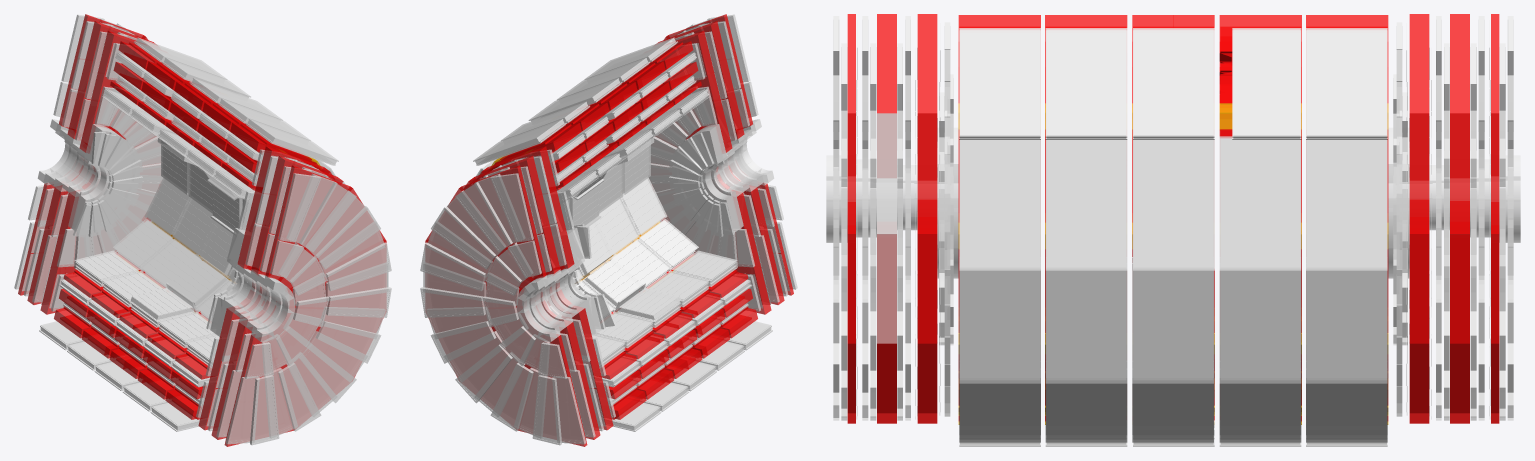
Rendered from muon-3.glb.
3 renders of one model, left to right at view 1: azimuth 30°, elevation 25°; view 2: azimuth 150°, elevation 25°; view 3: azimuth 270°, elevation 25°, orthographic. The views are drawn at different scales.
Parts seen in each view (by area): view 1: Mesh763 muonYoke_YE3_b_materials_AISI_1018_Steel2 lp_muonYok, Mesh764 muonYoke_YE3_b_materials_AISI_1018_Steel3 lp_muonYok, Mesh762 muonYoke_YE3_b_materials_AISI_1018_Steel1 lp_muonYok, Mesh761 muonYoke_YE3_b_materials_AISI_1018_Steel lp_muonYoke, Mesh765 muonYoke_YE3_b_materials_AISI_1018_Steel4 lp_muonYok, Mesh766 muonYoke_YE3_b_materials_AISI_1018_Steel5 lp_muonYok, Mesh498 muonYoke_YE2_b_materials_AISI_1018_Steel3 lp_muonYok, Mesh2351 muonYoke_YE2_b_materials_AISI_1018_Steel6 lp_muonYo, Mesh497 muonYoke_YE2_b_materials_AISI_1018_Steel2 lp_muonYok, Mesh2355 muonYoke_YE2_b_materials_AISI_1018_Steel7 lp_muonYo, Mesh2326 muonYoke_YE1_b_materials_AISI_1018_Steel11 lp_muonY, Mesh519 mf_ME42AlumFrame_materials_M_Aluminium lp_mf_ME42Alu (+120 smaller); view 2: Mesh2315 muonYoke_YE3_b_materials_AISI_1018_Steel6 lp_muonYo, Mesh2320 muonYoke_YE3_b_materials_AISI_1018_Steel11 lp_muonY, Mesh2316 muonYoke_YE3_b_materials_AISI_1018_Steel7 lp_muonYo, Mesh2317 muonYoke_YE3_b_materials_AISI_1018_Steel8 lp_muonYo, Mesh2319 muonYoke_YE3_b_materials_AISI_1018_Steel10 lp_muonY, Mesh2318 muonYoke_YE3_b_materials_AISI_1018_Steel9 lp_muonYo, Mesh2351 muonYoke_YE2_b_materials_AISI_1018_Steel6 lp_muonYo, Mesh498 muonYoke_YE2_b_materials_AISI_1018_Steel3 lp_muonYok, Mesh2355 muonYoke_YE2_b_materials_AISI_1018_Steel7 lp_muonYo, Mesh497 muonYoke_YE2_b_materials_AISI_1018_Steel2 lp_muonYok, Mesh770 muonYoke_YE1_b_materials_AISI_1018_Steel3 lp_muonYok, Mesh2534 mf_ME42AlumFrame_materials_M_Aluminium23 lp_mf_ME42 (+122 smaller); view 3: Mesh39 mb4_MB4BigSuperLayerPhi_materials_Air1 lp_mb4_MB4BigS, Mesh1454 mb4_MB4BigSuperLayerPhi_materials_Air15 lp_mb4_MB4B, Mesh304 mb4_MB4BigSuperLayerPhi_materials_Air3 lp_mb4_MB4Big, Mesh942 mb4_MB4BigSuperLayerPhi_materials_Air9 lp_mb4_MB4Big, Mesh1672 mb4_MB4BigSuperLayerPhi_materials_Air23 lp_mb4_MB4B, Mesh305 mb4_MB4BigHoneycombBox_materials_Air1 lp_mb4_MB4BigH, Mesh1673 mb4_MB4BigHoneycombBox_materials_Air11 lp_mb4_MB4Bi, Mesh40 mb4_MB4BigHoneycombBox_materials_Air lp_mb4_MB4BigHon, Mesh943 mb4_MB4BigHoneycombBox_materials_Air4 lp_mb4_MB4BigH, Mesh1455 mb4_MB4BigHoneycombBox_materials_Air7 lp_mb4_MB4Big, Mesh1458 mb4_MB4BigSuperLayerPhi_materials_Air17 lp_mb4_MB4B, Mesh2048 mb4_MB4BigSuperLayerPhi_materials_Air27 lp_mb4_MB4B (+60 smaller).
Part boxes in pixels (bbox=[...]): Mesh763 muonYoke_YE3_b_materials_AISI_1018_Steel2 lp_muonYok: bbox=[224, 334, 293, 446]; Mesh764 muonYoke_YE3_b_materials_AISI_1018_Steel3 lp_muonYok: bbox=[265, 165, 352, 281]; Mesh762 muonYoke_YE3_b_materials_AISI_1018_Steel1 lp_muonYok: bbox=[269, 324, 349, 429]; Mesh761 muonYoke_YE3_b_materials_AISI_1018_Steel lp_muonYoke: bbox=[282, 308, 385, 377]; Mesh765 muonYoke_YE3_b_materials_AISI_1018_Steel4 lp_muonYok: bbox=[278, 187, 386, 291]; Mesh766 muonYoke_YE3_b_materials_AISI_1018_Steel5 lp_muonYok: bbox=[289, 240, 386, 309]; Mesh498 muonYoke_YE2_b_materials_AISI_1018_Steel3 lp_muonYok: bbox=[251, 156, 343, 275]; Mesh2351 muonYoke_YE2_b_materials_AISI_1018_Steel6 lp_muonYo: bbox=[67, 21, 155, 139]; Mesh497 muonYoke_YE2_b_materials_AISI_1018_Steel2 lp_muonYok: bbox=[211, 319, 252, 439]; Mesh2355 muonYoke_YE2_b_materials_AISI_1018_Steel7 lp_muonYo: bbox=[27, 186, 68, 304]; Mesh2326 muonYoke_YE1_b_materials_AISI_1018_Steel11 lp_muonY: bbox=[79, 30, 144, 152]; Mesh519 mf_ME42AlumFrame_materials_M_Aluminium lp_mf_ME42Alu: bbox=[278, 173, 321, 242]; Mesh2315 muonYoke_YE3_b_materials_AISI_1018_Steel6 lp_muonYo: bbox=[518, 334, 587, 446]; Mesh2320 muonYoke_YE3_b_materials_AISI_1018_Steel11 lp_muonY: bbox=[459, 165, 546, 281]; Mesh2316 muonYoke_YE3_b_materials_AISI_1018_Steel7 lp_muonYo: bbox=[462, 324, 542, 429]; Mesh2317 muonYoke_YE3_b_materials_AISI_1018_Steel8 lp_muonYo: bbox=[426, 308, 529, 377]; Mesh2319 muonYoke_YE3_b_materials_AISI_1018_Steel10 lp_muonY: bbox=[425, 187, 533, 291]; Mesh2318 muonYoke_YE3_b_materials_AISI_1018_Steel9 lp_muonYo: bbox=[425, 240, 522, 309]; Mesh2351 muonYoke_YE2_b_materials_AISI_1018_Steel6 lp_muonYo: bbox=[468, 156, 560, 275]; Mesh498 muonYoke_YE2_b_materials_AISI_1018_Steel3 lp_muonYok: bbox=[656, 21, 744, 140]; Mesh2355 muonYoke_YE2_b_materials_AISI_1018_Steel7 lp_muonYo: bbox=[559, 319, 600, 439]; Mesh497 muonYoke_YE2_b_materials_AISI_1018_Steel2 lp_muonYok: bbox=[743, 186, 784, 304]; Mesh770 muonYoke_YE1_b_materials_AISI_1018_Steel3 lp_muonYok: bbox=[667, 30, 732, 153]; Mesh2534 mf_ME42AlumFrame_materials_M_Aluminium23 lp_mf_ME42: bbox=[490, 173, 533, 242]; Mesh39 mb4_MB4BigSuperLayerPhi_materials_Air1 lp_mb4_MB4BigS: bbox=[1219, 138, 1301, 270]; Mesh1454 mb4_MB4BigSuperLayerPhi_materials_Air15 lp_mb4_MB4B: bbox=[1045, 139, 1127, 270]; Mesh304 mb4_MB4BigSuperLayerPhi_materials_Air3 lp_mb4_MB4Big: bbox=[1306, 139, 1387, 270]; Mesh942 mb4_MB4BigSuperLayerPhi_materials_Air9 lp_mb4_MB4Big: bbox=[1133, 139, 1214, 270]; Mesh1672 mb4_MB4BigSuperLayerPhi_materials_Air23 lp_mb4_MB4B: bbox=[959, 139, 1040, 270]; Mesh305 mb4_MB4BigHoneycombBox_materials_Air1 lp_mb4_MB4BigH: bbox=[1307, 140, 1386, 267]; Mesh1673 mb4_MB4BigHoneycombBox_materials_Air11 lp_mb4_MB4Bi: bbox=[960, 140, 1039, 267]; Mesh40 mb4_MB4BigHoneycombBox_materials_Air lp_mb4_MB4BigHon: bbox=[1221, 139, 1299, 267]; Mesh943 mb4_MB4BigHoneycombBox_materials_Air4 lp_mb4_MB4BigH: bbox=[1134, 140, 1212, 267]; Mesh1455 mb4_MB4BigHoneycombBox_materials_Air7 lp_mb4_MB4Big: bbox=[1047, 140, 1125, 267]; Mesh1458 mb4_MB4BigSuperLayerPhi_materials_Air17 lp_mb4_MB4B: bbox=[1045, 269, 1127, 383]; Mesh2048 mb4_MB4BigSuperLayerPhi_materials_Air27 lp_mb4_MB4B: bbox=[1219, 269, 1301, 383].
Size of the model in its own units: 10.57 by 14.32 by 21.36.
